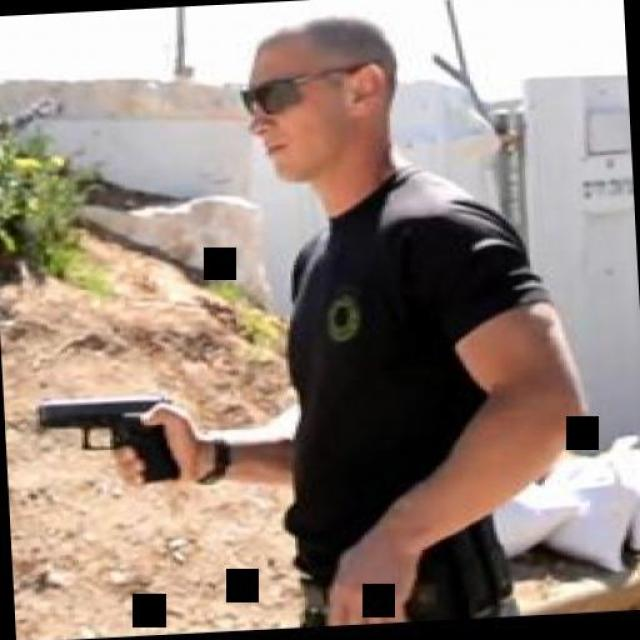gun: (31, 388, 188, 492)
